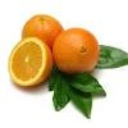orange: (6, 36, 54, 91), (52, 27, 101, 77)
